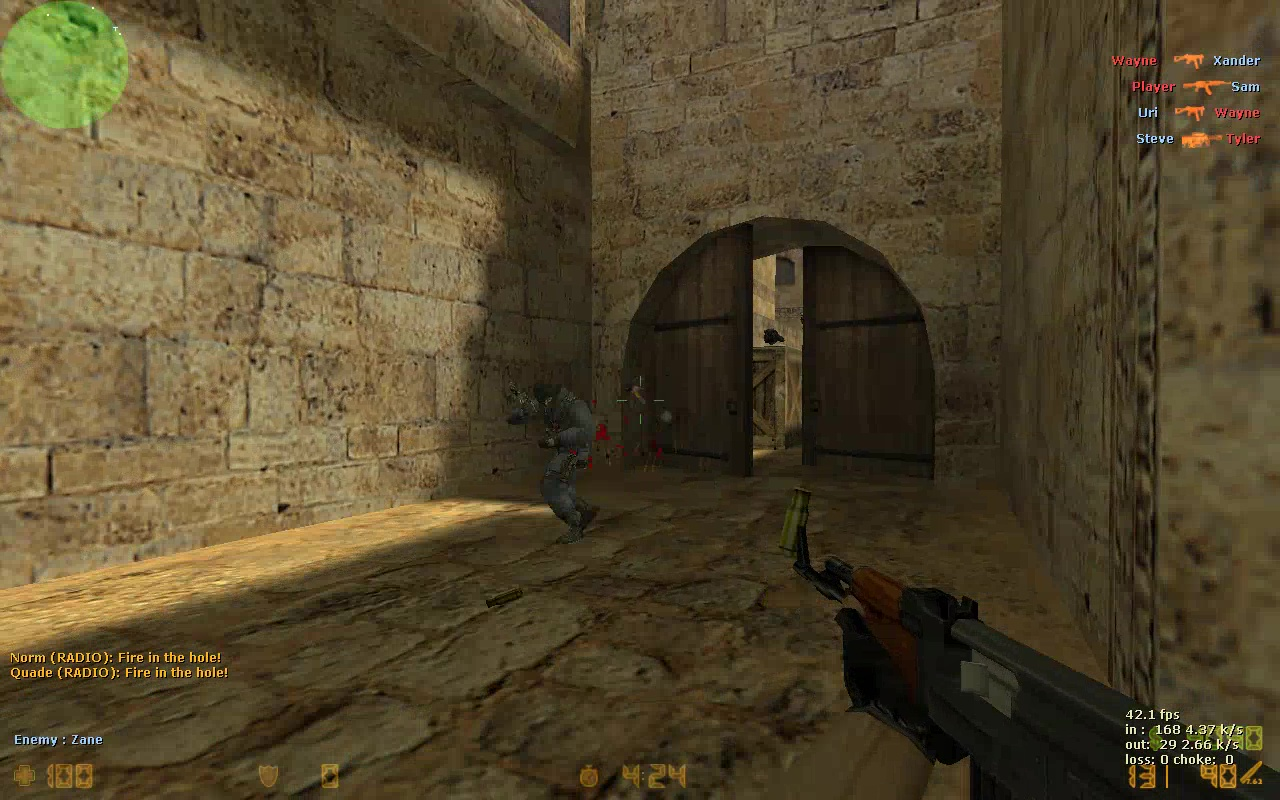ct: (508, 378, 601, 545)
